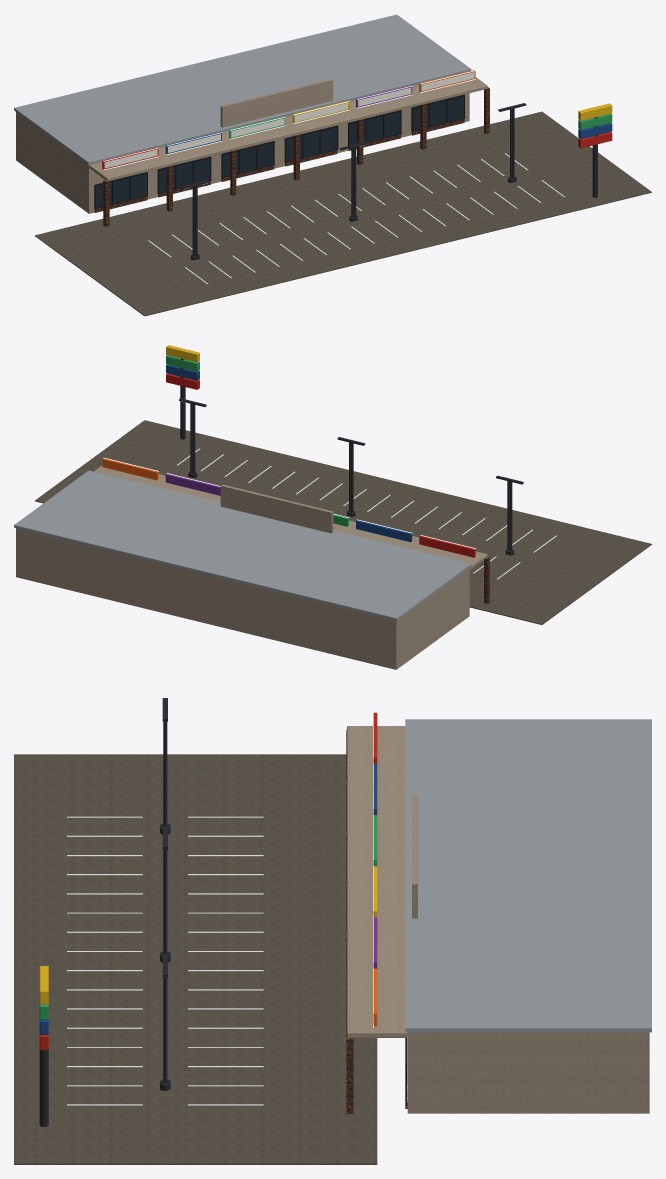
Rendered from OT_StripMall_A.glb.
3 renders of one model, top to bottom at view 1: azimuth 30°, elevation 25°; view 2: azimuth 150°, elevation 25°; view 3: azimuth 270°, elevation 25°, orthographic. The views are drawn at different scales.
Parts seen in each view (by area): view 1: OT_StripMall_A_Pavement, OT_StripMall_A_SteelGrey__9aa0a6, OT_StripMall_A_Stucco, OT_StripMall_A_Glass__22303a, OT_StripMall_A_Brick, OT_StripMall_A_SignFace__f2efe6, OT_StripMall_A_Frame__18191c, OT_StripMall_A_PoleDark__2a2c30, OT_StripMall_A_PaintWhite__f0f0ee, OT_StripMall_A_NeonW__fff4e0, OT_StripMall_A_Sign3__e8b81e, OT_StripMall_A_Sign0__c4261d (+2 smaller); view 2: OT_StripMall_A_Pavement, OT_StripMall_A_SteelGrey__9aa0a6, OT_StripMall_A_Stucco, OT_StripMall_A_PoleDark__2a2c30, OT_StripMall_A_Sign0__c4261d, OT_StripMall_A_Sign1__1f4e8c, OT_StripMall_A_PaintWhite__f0f0ee, OT_StripMall_A_Sign5__f26b1d, OT_StripMall_A_Sign4__7a3a9e, OT_StripMall_A_Sign2__2fa45a; view 3: OT_StripMall_A_Pavement, OT_StripMall_A_SteelGrey__9aa0a6, OT_StripMall_A_Stucco, OT_StripMall_A_PaintWhite__f0f0ee, OT_StripMall_A_PoleDark__2a2c30, OT_StripMall_A_Brick, OT_StripMall_A_PoleDark__2a2c30.001.
Part boxes in pixels (x1,y1,x2,y2): OT_StripMall_A_Pavement: (35,111,651,316); OT_StripMall_A_SteelGrey__9aa0a6: (14,14,471,164); OT_StripMall_A_Stucco: (16,77,487,213); OT_StripMall_A_Glass__22303a: (95,96,463,207); OT_StripMall_A_Brick: (94,87,489,226); OT_StripMall_A_SignFace__f2efe6: (104,72,474,168); OT_StripMall_A_Frame__18191c: (94,94,464,208); OT_StripMall_A_PoleDark__2a2c30: (181,103,526,260); OT_StripMall_A_PaintWhite__f0f0ee: (148,153,564,283); OT_StripMall_A_NeonW__fff4e0: (103,70,475,170); OT_StripMall_A_Sign3__e8b81e: (292,101,612,123); OT_StripMall_A_Sign0__c4261d: (102,132,612,169); OT_StripMall_A_Pavement: (35,420,651,624); OT_StripMall_A_SteelGrey__9aa0a6: (14,470,471,620); OT_StripMall_A_Stucco: (16,465,487,669); OT_StripMall_A_PoleDark__2a2c30: (179,398,523,555); OT_StripMall_A_Sign0__c4261d: (166,373,475,557); OT_StripMall_A_Sign1__1f4e8c: (166,364,412,542); OT_StripMall_A_PaintWhite__f0f0ee: (177,448,556,579); OT_StripMall_A_Sign5__f26b1d: (102,458,158,480); OT_StripMall_A_Sign4__7a3a9e: (165,474,220,495); OT_StripMall_A_Sign2__2fa45a: (166,355,348,526); OT_StripMall_A_Pavement: (14,754,377,1164); OT_StripMall_A_SteelGrey__9aa0a6: (405,719,651,1032); OT_StripMall_A_Stucco: (347,726,649,1113); OT_StripMall_A_PaintWhite__f0f0ee: (67,816,263,1105); OT_StripMall_A_PoleDark__2a2c30: (160,698,170,1090); OT_StripMall_A_Brick: (346,729,407,1113); OT_StripMall_A_PoleDark__2a2c30.001: (39,1049,48,1126).
Size of the model in its own units: 64 by 10.8 by 42.15.
Materials: 20 (3 with a texture image).
